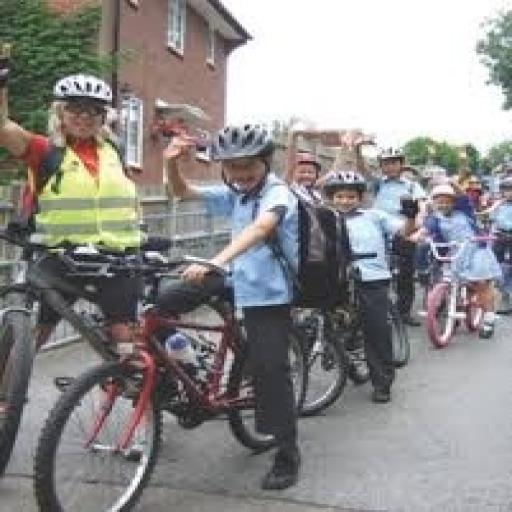cycling: (158, 120, 357, 494), (316, 167, 420, 406), (410, 182, 507, 340)
